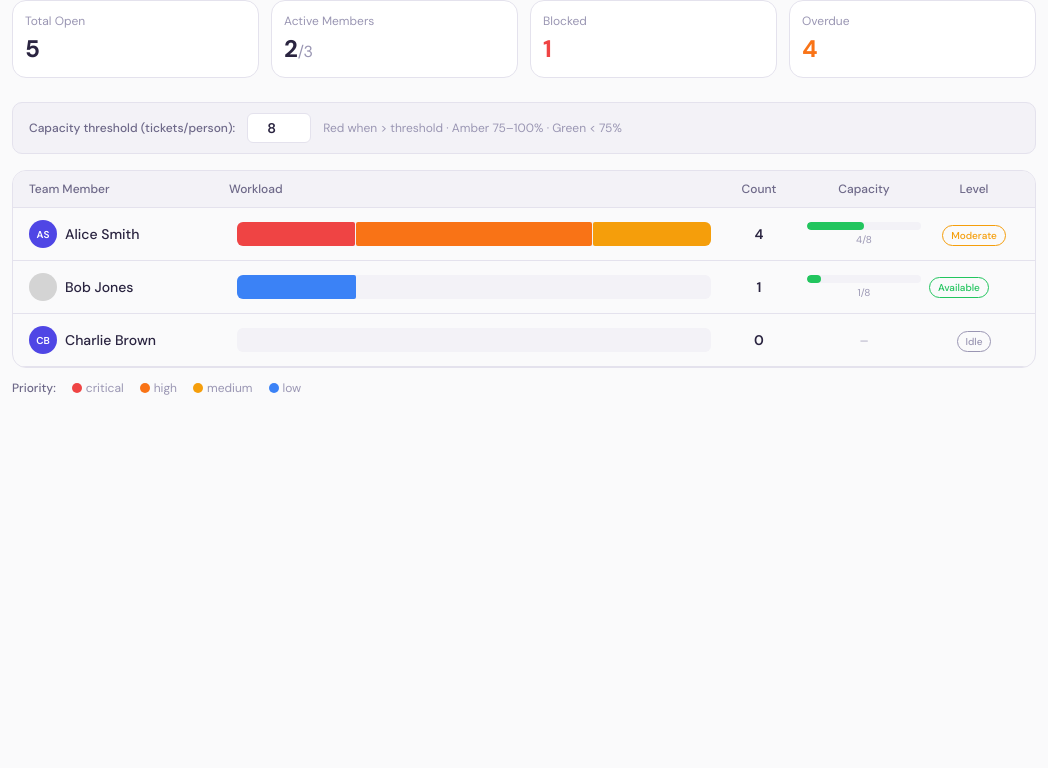
Test: TeamWorkload › expands member detail on click
The image size is (1048, 768).
Click the button with test id "workload-member-u-1": click(524, 234) [13,208,1035,261]
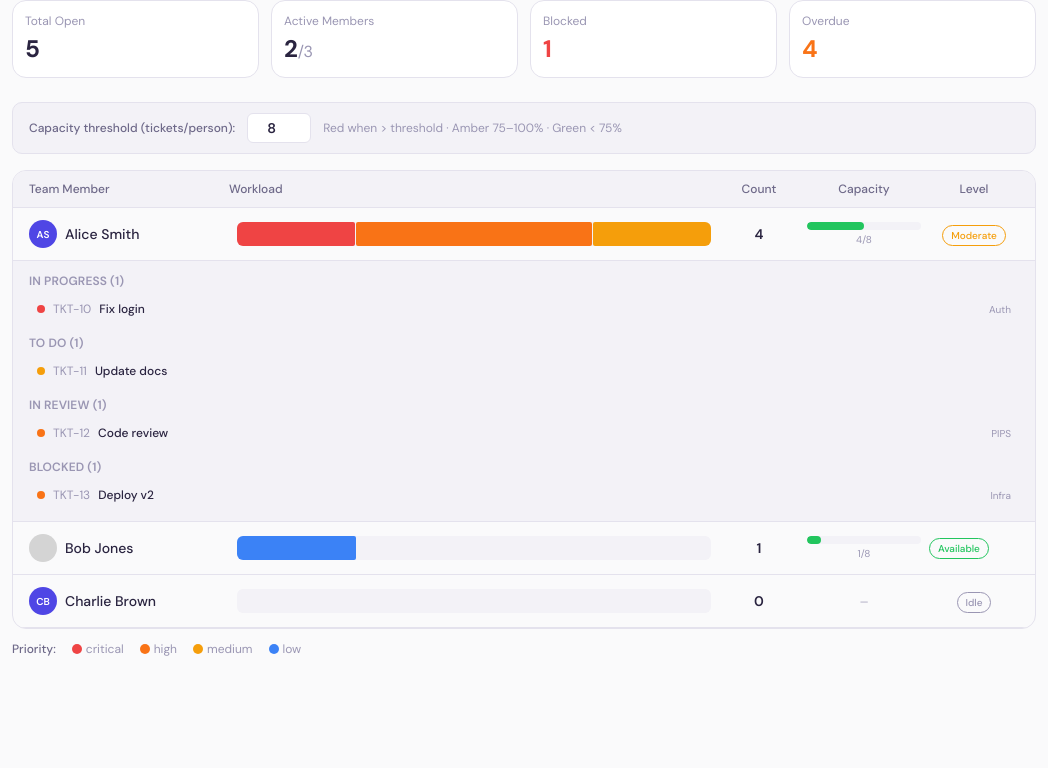
Expected: the element with test id "workload-detail-u-1" is shown, [13,261,1035,522]
